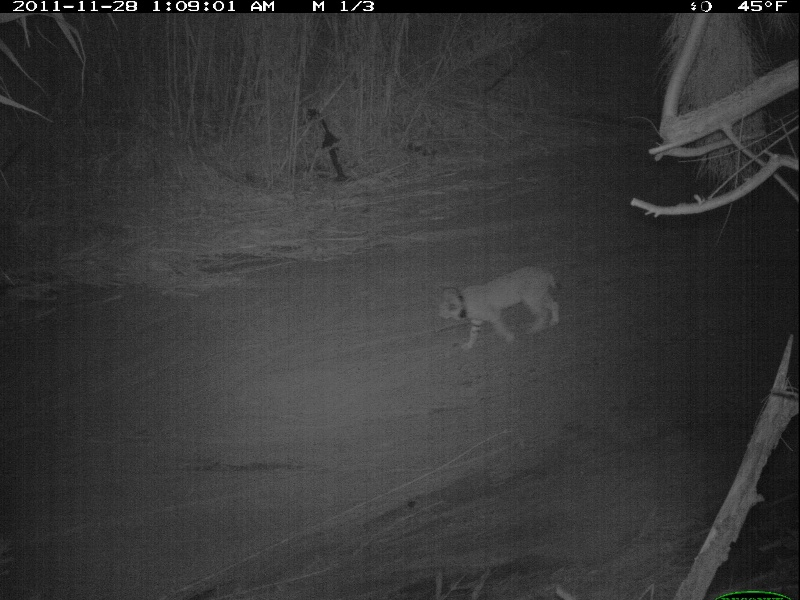cat: (439, 261, 565, 353)
